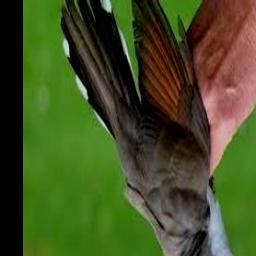Cuckoo: (60, 0, 254, 256)
